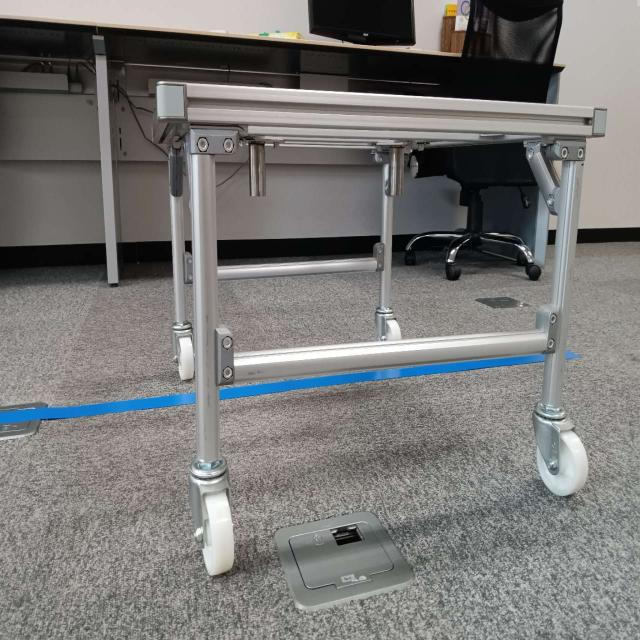side: (187, 86, 588, 378)
